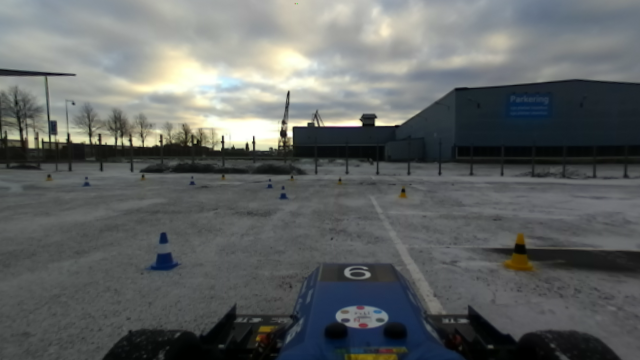blue: (146, 228, 180, 274)
yellow: (499, 231, 538, 275)
